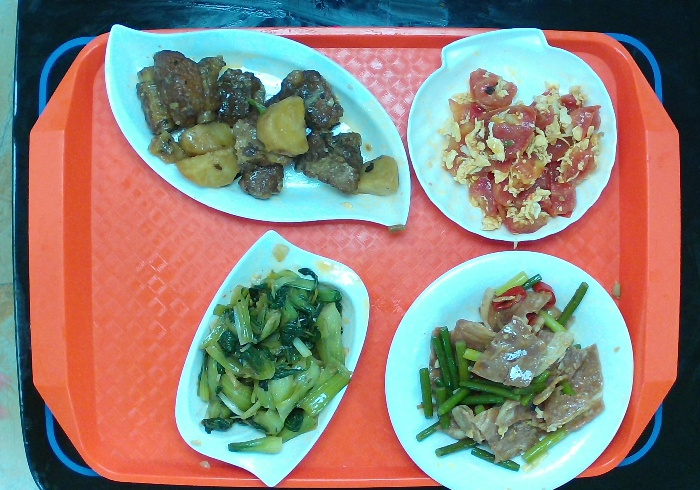RJxy-Bei_Ke_Wan: (404, 24, 623, 247)
RJxy-Jian_Jiao_Fang_Die: (172, 229, 372, 490)
RJxy-Jian_Jiao_Pan: (100, 19, 416, 235)
RJxy-Yuan_Pan: (382, 248, 639, 490)
